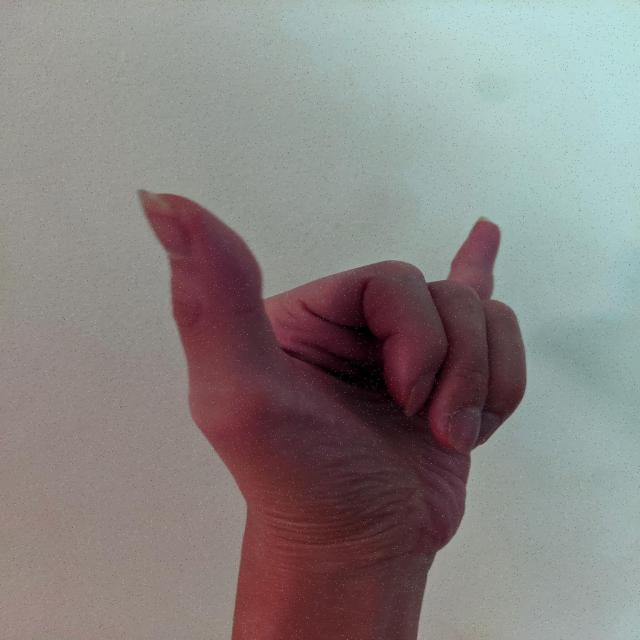Y: (130, 183, 534, 566)
